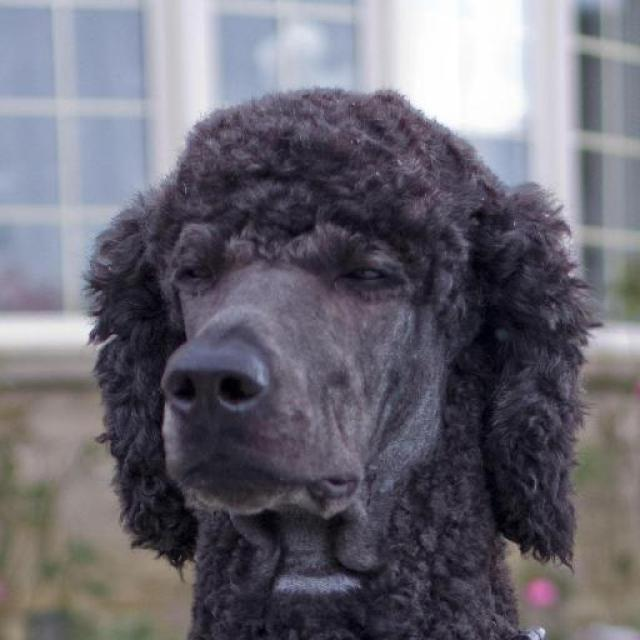relax: (76, 66, 584, 580)
